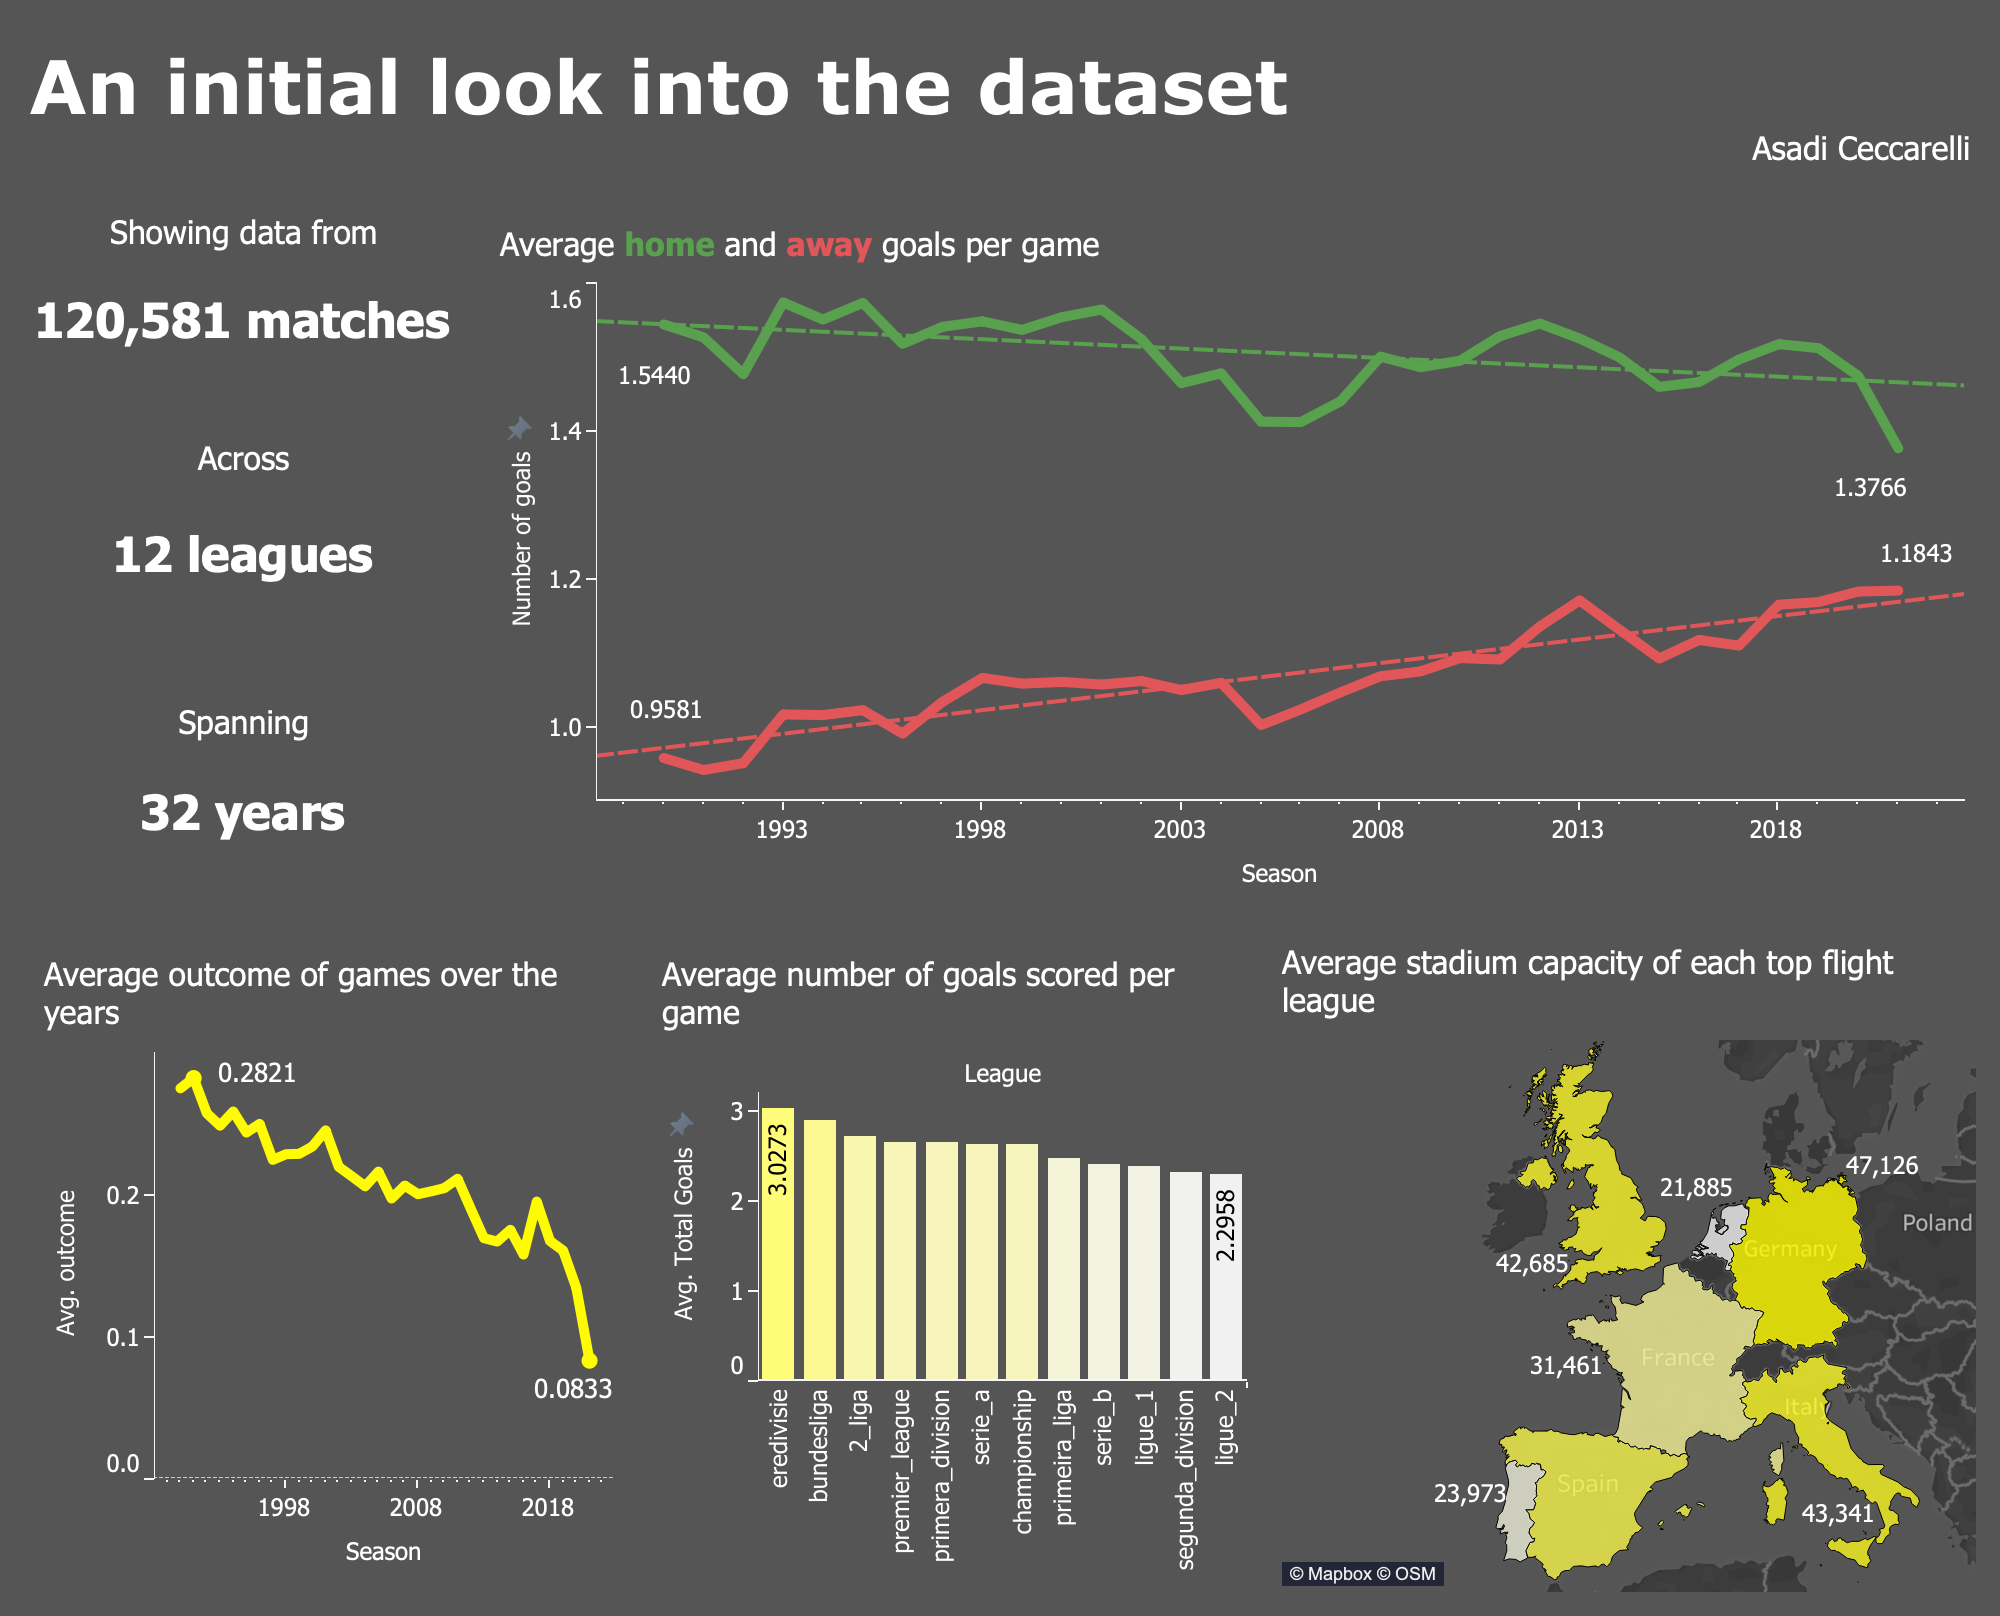

The dashboard page shown, as its layout file describes it:
{"tool":"tableau","page":{"name":"football project","canvas":[1000,808],"ordinal":0},"visuals":[{"type":"title","box":[8,8,984,88]},{"type":"worksheet","title":"no. matches","mark":"Automatic","box":[8,96,228,113.5]},{"type":"worksheet","title":"goals per game year","mark":"Automatic","cols":["season"],"box":[236,96,756,365]},{"type":"worksheet","title":"no. leagues","mark":"Automatic","box":[8,209.5,228,131.9]},{"type":"worksheet","title":"no. seasons","mark":"Automatic","box":[8,341.3,228,119.6]},{"type":"worksheet","title":"league outcome","mark":"Automatic","rows":["outcome"],"cols":["season"],"box":[8,461,309,339]},{"type":"worksheet","title":"goals per game league","mark":"Bar","rows":["Calculation_301037496000385024"],"cols":["league"],"box":[317,461,316,339]},{"type":"worksheet","title":"capacity","mark":"Automatic","box":[633,461,359,339]}]}

Visuals, with their boxes in screenshot pixels (x1, y1, x2, y2), scaled from the page's 1000x808 canvas onto the 2000x1616 screenshot:
title: 16, 16, 1984, 192
"no. matches" worksheet: 16, 192, 472, 419
"goals per game year" worksheet: 472, 192, 1984, 922
"no. leagues" worksheet: 16, 419, 472, 683
"no. seasons" worksheet: 16, 683, 472, 922
"league outcome" worksheet: 16, 922, 634, 1600
"goals per game league" worksheet (Bar marks): 634, 922, 1266, 1600
"capacity" worksheet: 1266, 922, 1984, 1600
